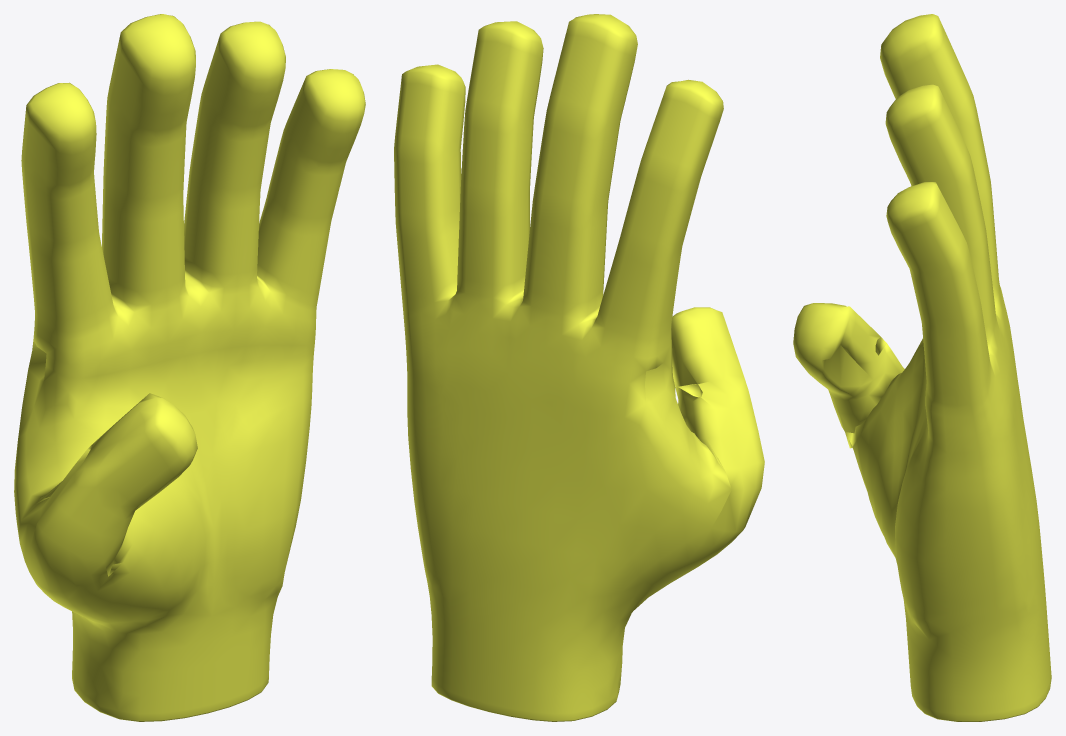
3 views of the same model, side by side, from view 1: azimuth 30°, elevation 25°; view 2: azimuth 150°, elevation 25°; view 3: azimuth 270°, elevation 25° (orthographic). The views are drawn at different scales.
Parts seen in each view (by area): view 1: uploads_files_810024_Hand; view 2: uploads_files_810024_Hand; view 3: uploads_files_810024_Hand.
Boxes of the visible parts, box(x1,y1,x2,y2) form: uploads_files_810024_Hand: box(14, 14, 365, 721); uploads_files_810024_Hand: box(394, 14, 764, 721); uploads_files_810024_Hand: box(793, 14, 1051, 721).
Bounding box in the file's own units: 1.48 × 2.84 × 1.03.
